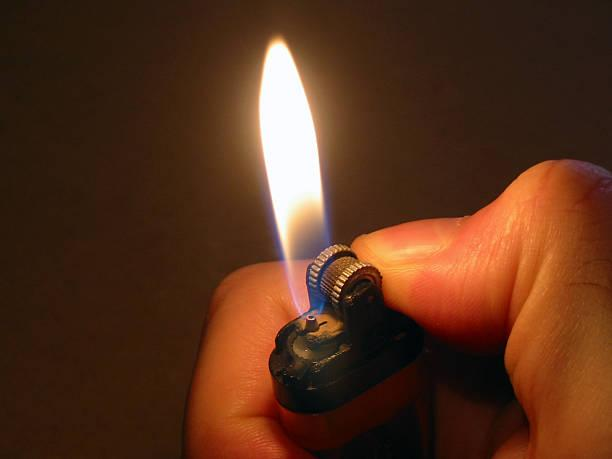Fire: (257, 31, 330, 320)
